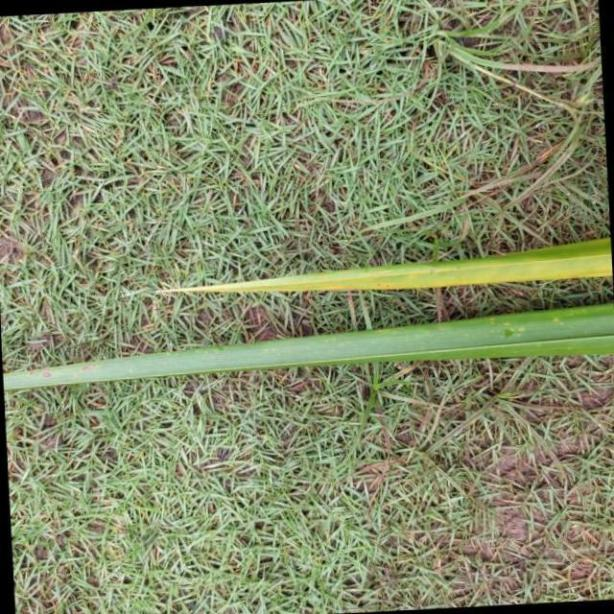nitrogen: (0, 298, 614, 389), (129, 242, 614, 297)
